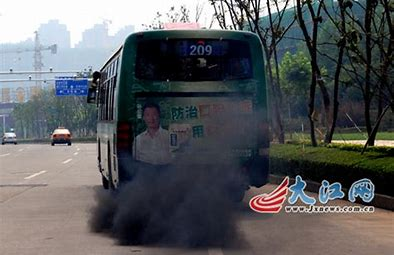smoke: (86, 117, 270, 253)
